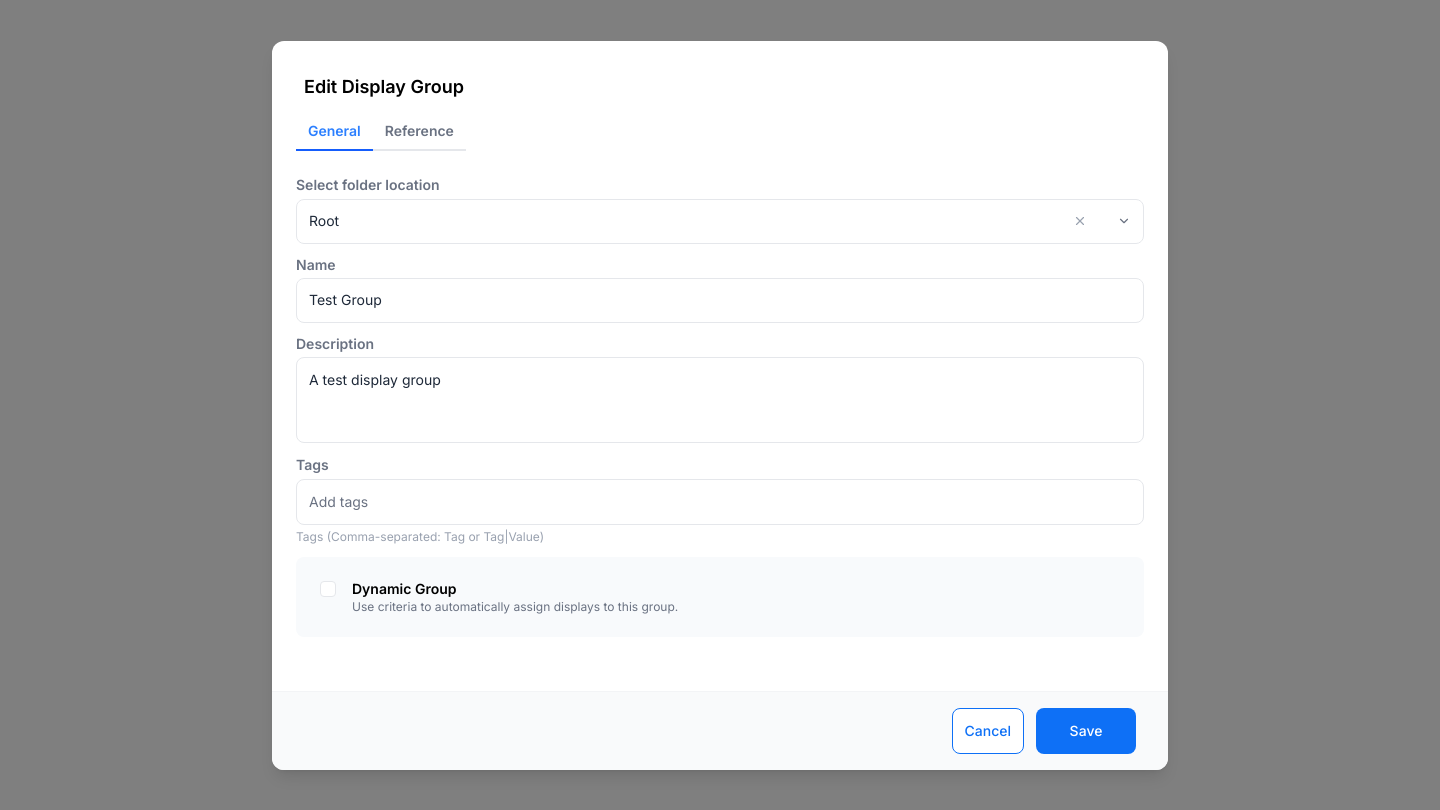
Scenario: DisplayGroup - edit form fields › Reference tab renders reference input fields
Expected: the dialog is shown, [272,40,1168,770]
Step 1. Click the button "Reference" → (419, 132), box [373,112,466,150]
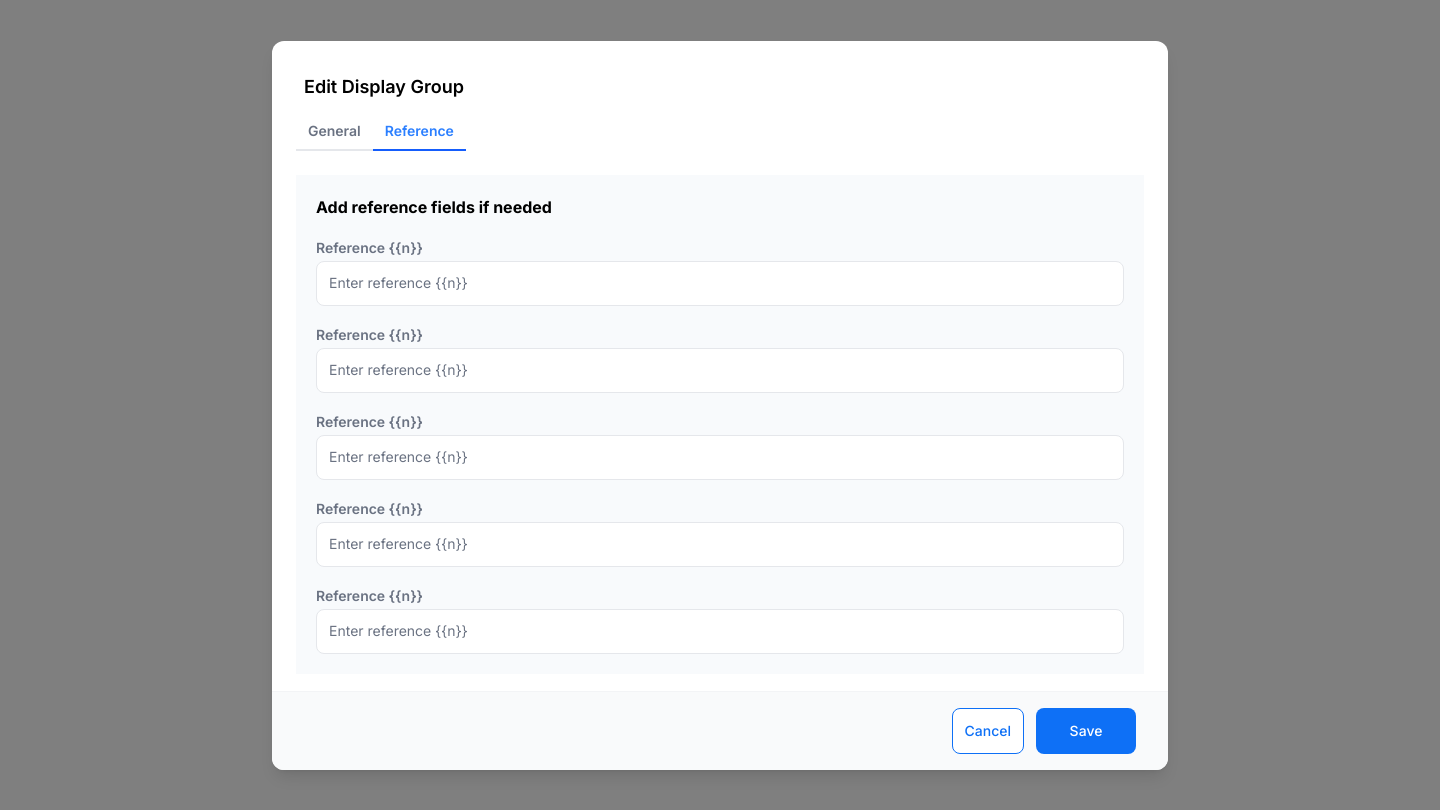
Expected: the number of fields labelled "Reference {{n}}" is 5, [317,262,1123,304]; [317,348,1123,392]; [317,436,1123,478]; [317,522,1123,566]; [317,610,1123,652]
